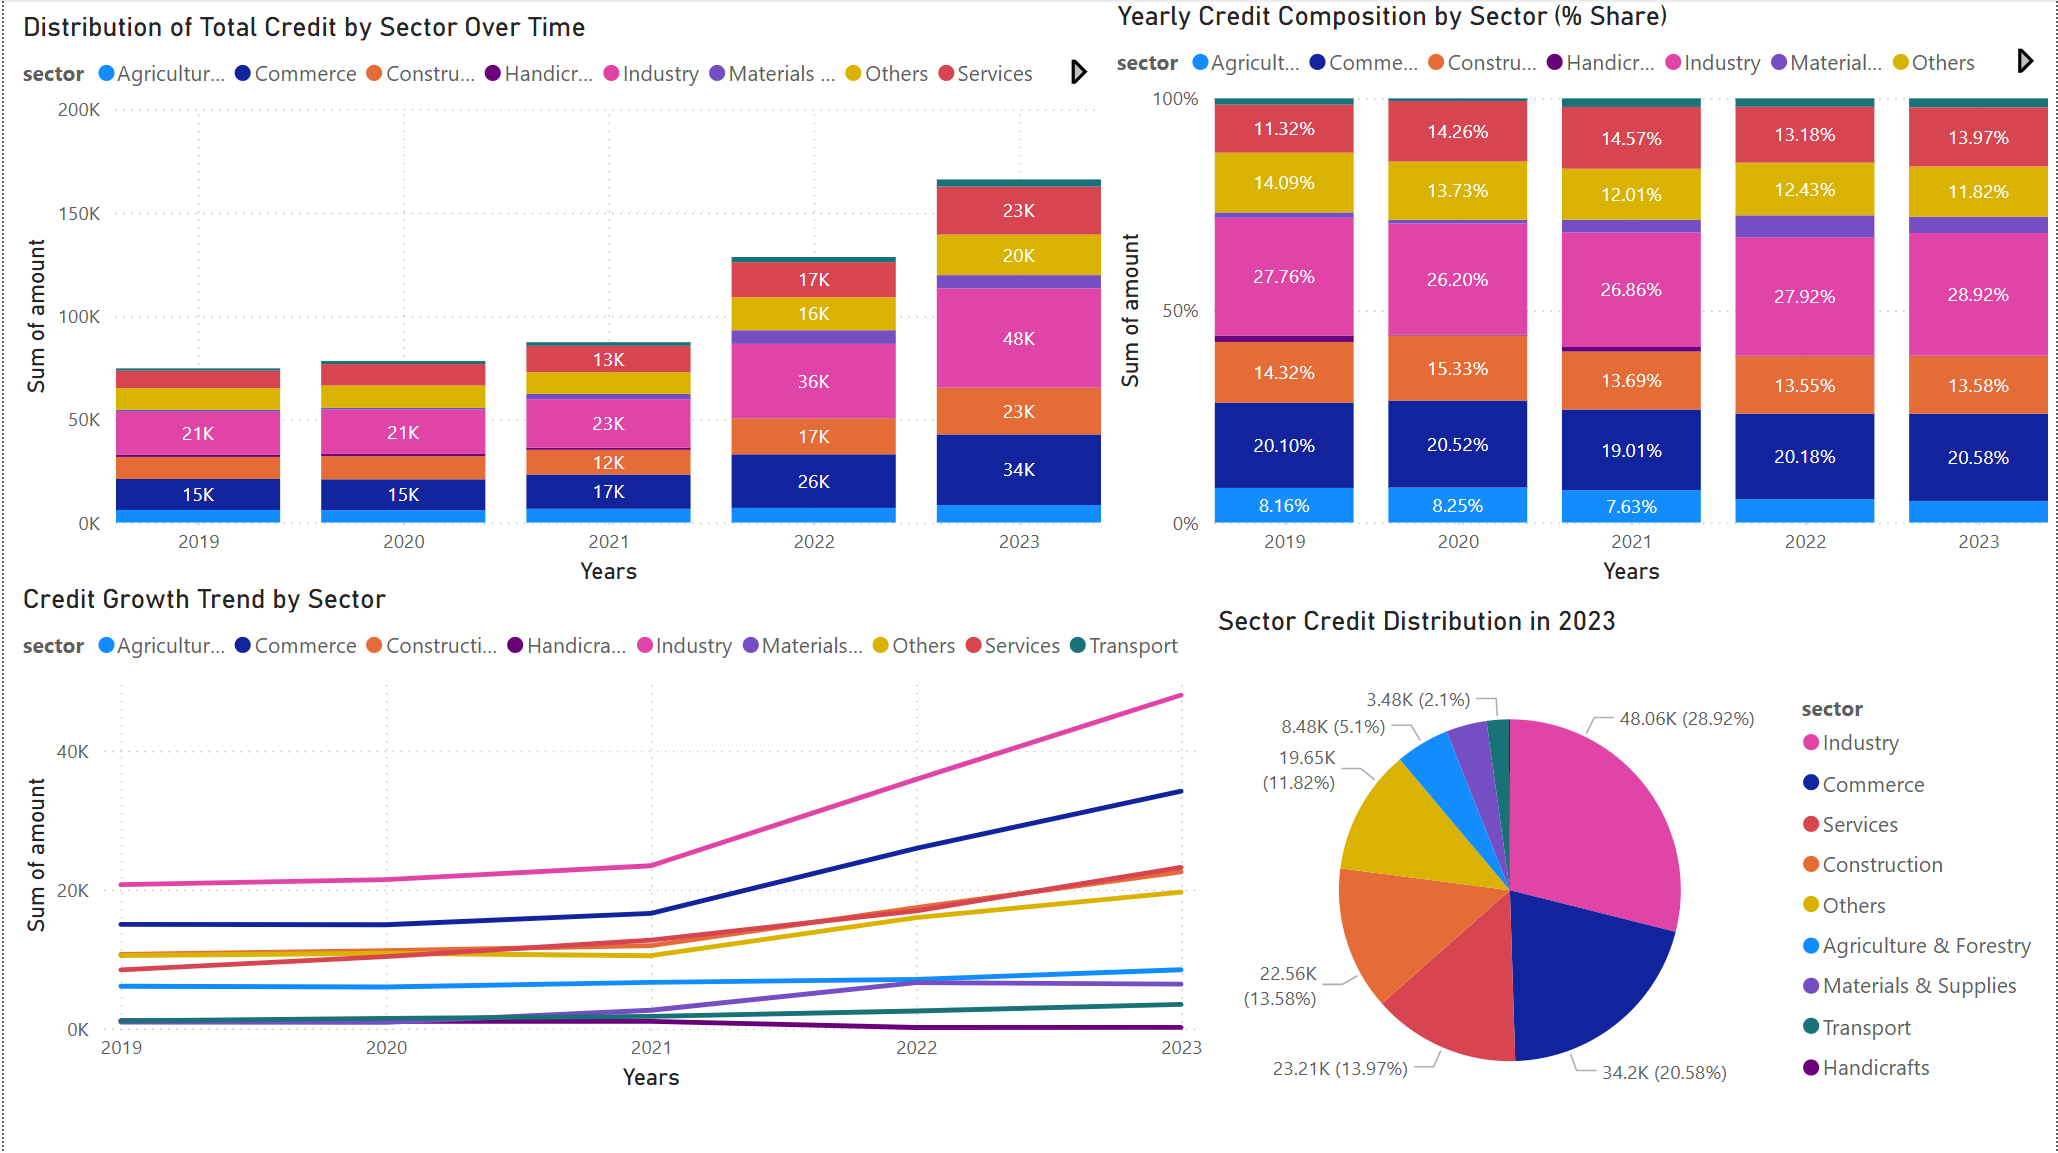

What the dashboard file says about the page in this screenshot:
{"tool":"powerbi","page":{"name":"Sector Credit Distribution of Commercial Bank","canvas":[1280,720],"ordinal":0},"visuals":[{"type":"columnChart","title":"Distribution of Total Credit by Sector Over Time","fields":{"Category":["comm banks credit by sector.year"],"Y":["Sum(comm banks credit by sector.amnt)"],"Series":["comm banks credit by sector.sector"]},"box":[6.9,6.9,682.6,363.1],"z":0},{"type":"lineChart","title":"Credit Growth Trend by Sector","fields":{"Category":["comm banks credit by sector.year"],"Y":["Sum(comm banks credit by sector.amnt)"],"Series":["comm banks credit by sector.sector"]},"box":[6.9,363.7,745.6,321.9],"z":1000},{"type":"hundredPercentStackedColumnChart","title":"Yearly Credit Composition by Sector (% Share)","fields":{"Category":["comm banks credit by sector.year"],"Y":["Sum(comm banks credit by sector.amnt)"],"Series":["comm banks credit by sector.sector"]},"box":[689.4,0,590.8,370],"z":2000},{"type":"pieChart","title":"Sector Credit Distribution in 2023","fields":{"Y":["Sum(comm banks credit by sector.amnt)"],"Category":["comm banks credit by sector.sector"]},"box":[752.4,377.5,527.2,338.2],"z":3000}]}

Visuals, with their boxes in screenshot pixels (x1, y1, x2, y2), scaled from the page's 1280x720 canvas onto the 2058x1153 screenshot:
"Distribution of Total Credit by Sector Over Time" columnChart: <region>11, 11, 1109, 593</region>
"Credit Growth Trend by Sector" lineChart: <region>11, 582, 1210, 1098</region>
"Yearly Credit Composition by Sector (% Share)" hundredPercentStackedColumnChart: <region>1108, 0, 2057, 593</region>
"Sector Credit Distribution in 2023" pieChart: <region>1210, 605, 2057, 1146</region>
